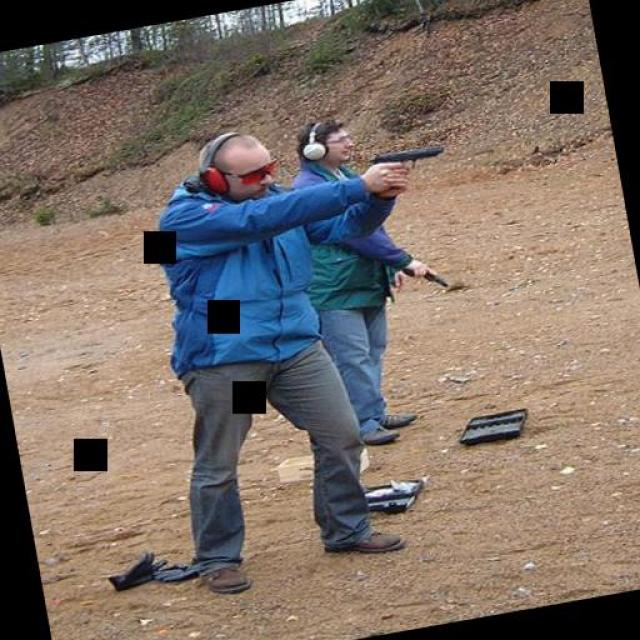gun: (365, 139, 447, 175), (400, 258, 446, 294)
